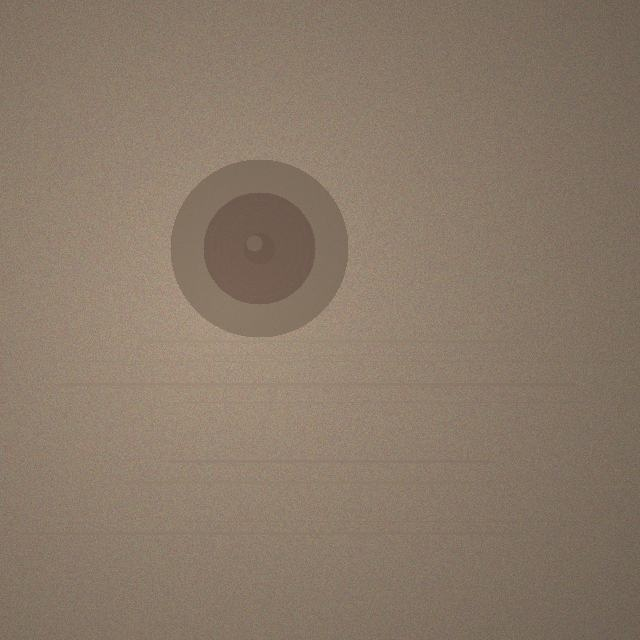good: (170, 159, 348, 337)
